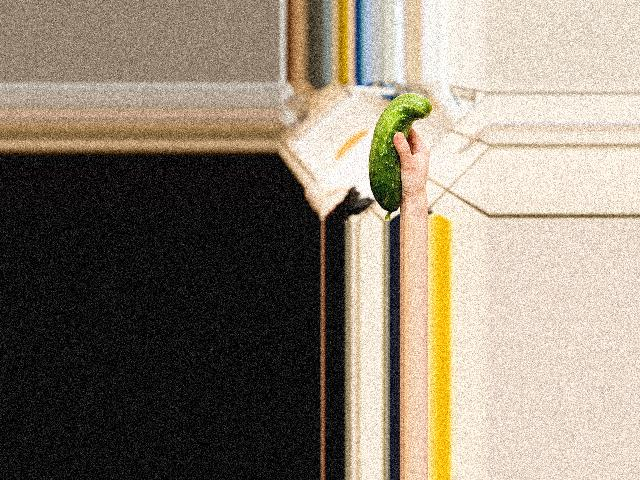cucumber: (367, 92, 431, 220)
